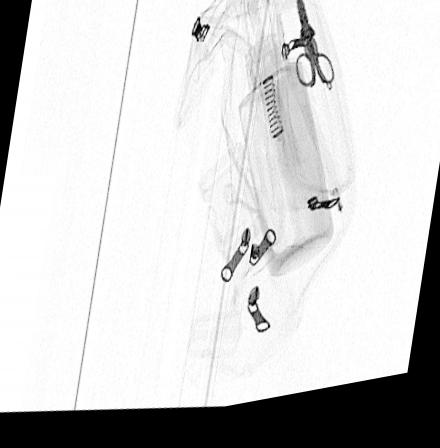Scissors: (293, 0, 336, 100)
